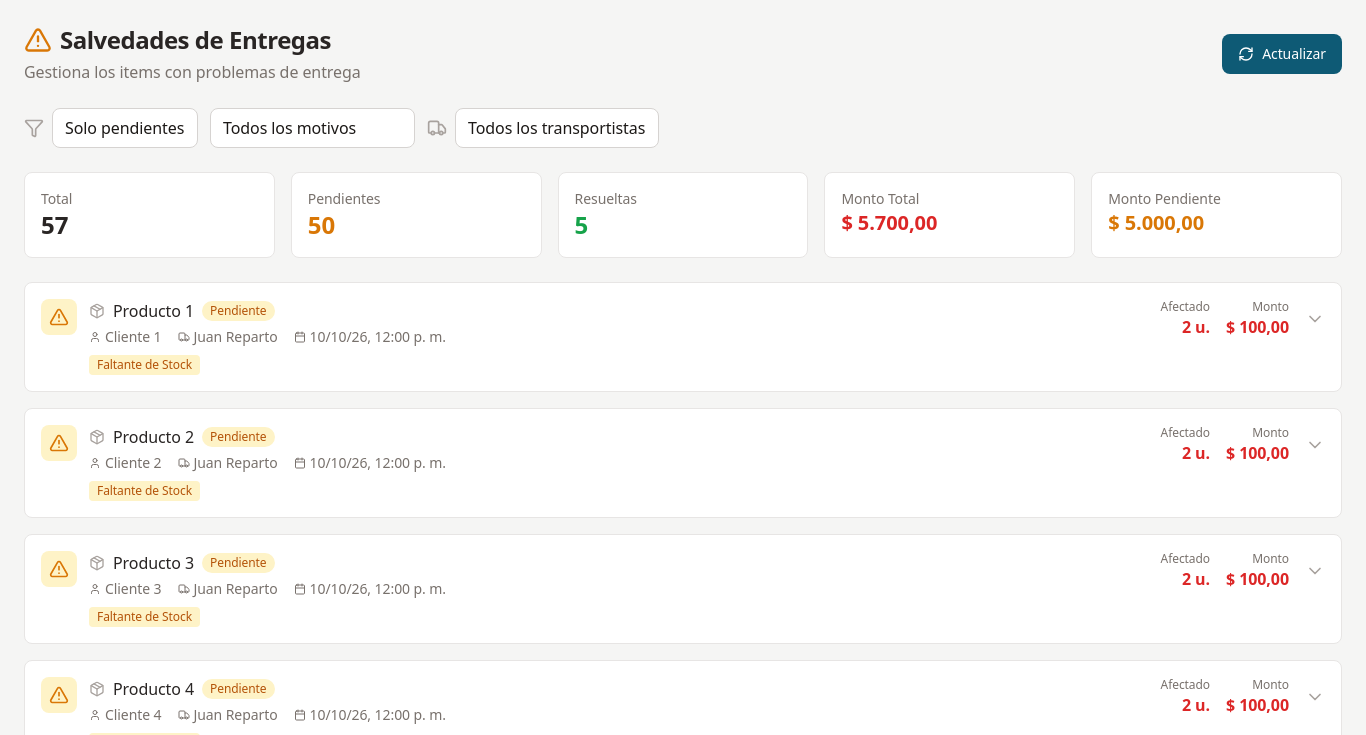
Scenario: VistaSalvedades — por rol › encargado: ve las salvedades que le da el servidor, con el nombre del transportista, y puede resolver pero no anular
Click the text "Producto 1" at (154, 311), box [113,299,194,323]
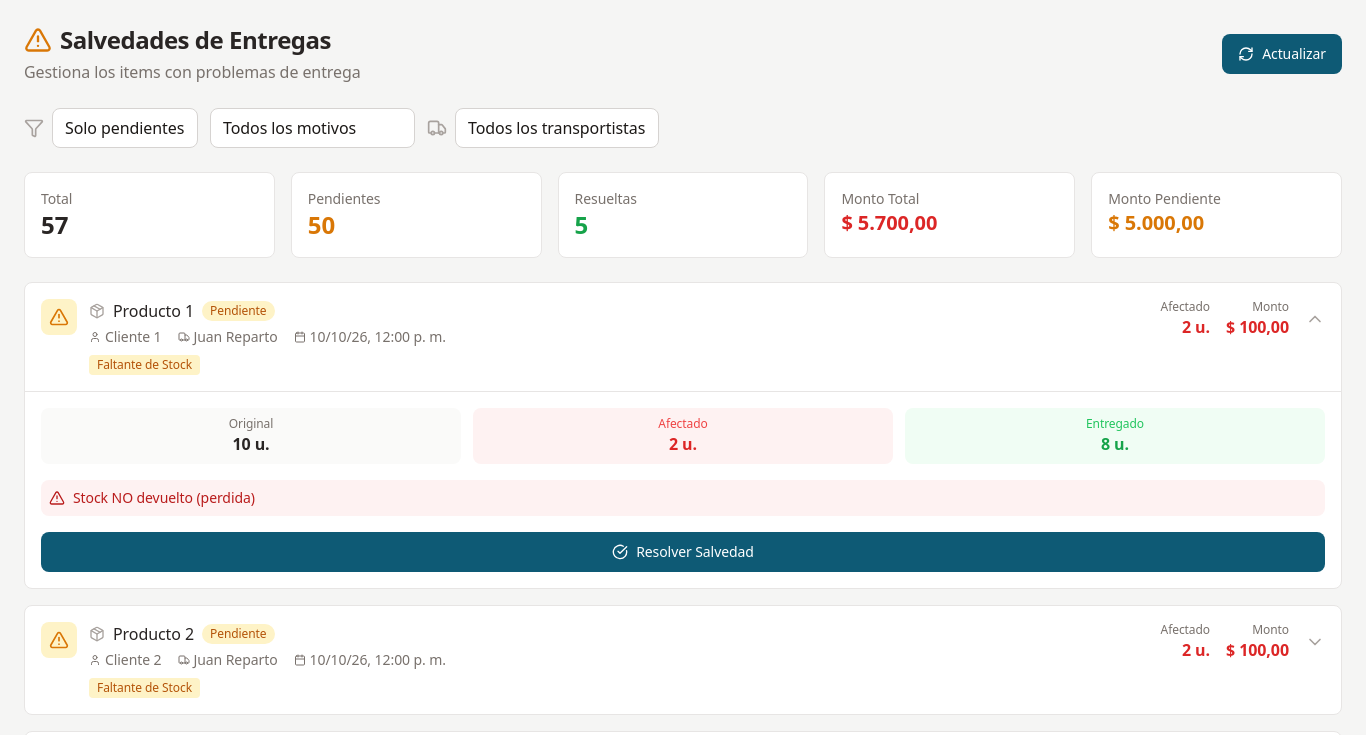
Result: the button "Resolver Salvedad" is shown at [41,532,1325,572]
